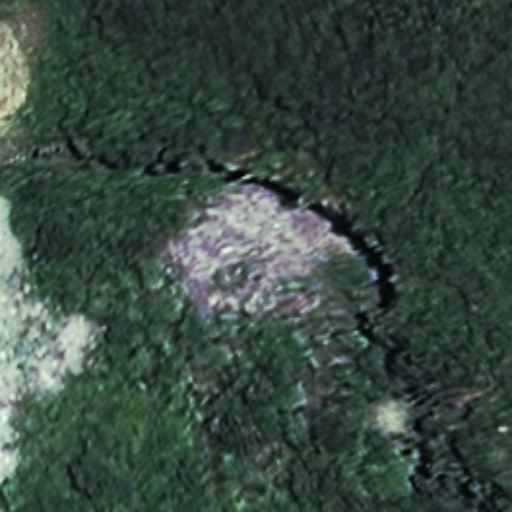landslide: (162, 181, 351, 323)
